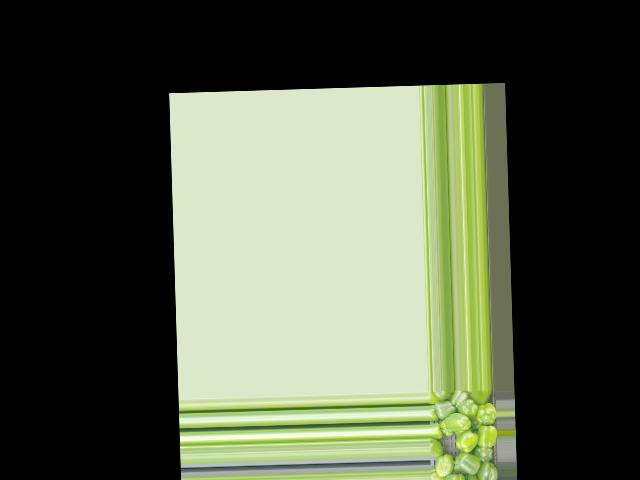bell_pepper: (467, 388, 486, 404)
